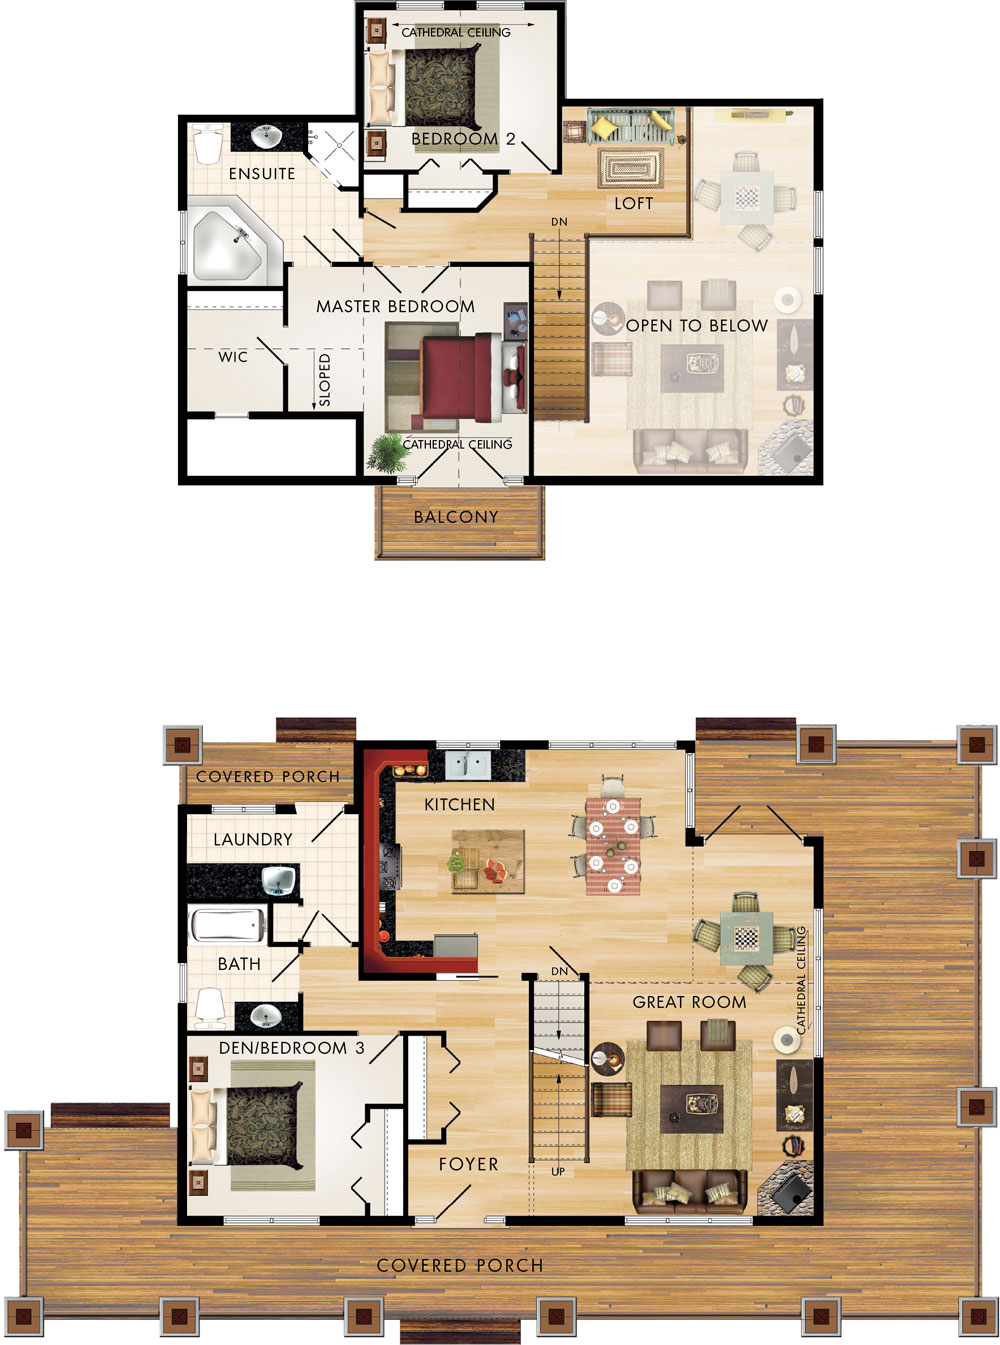balcony: (375, 486, 545, 560)
restroom: (178, 899, 303, 1036)
room: (358, 740, 694, 982), (178, 1031, 408, 1226), (359, 2, 562, 175)
